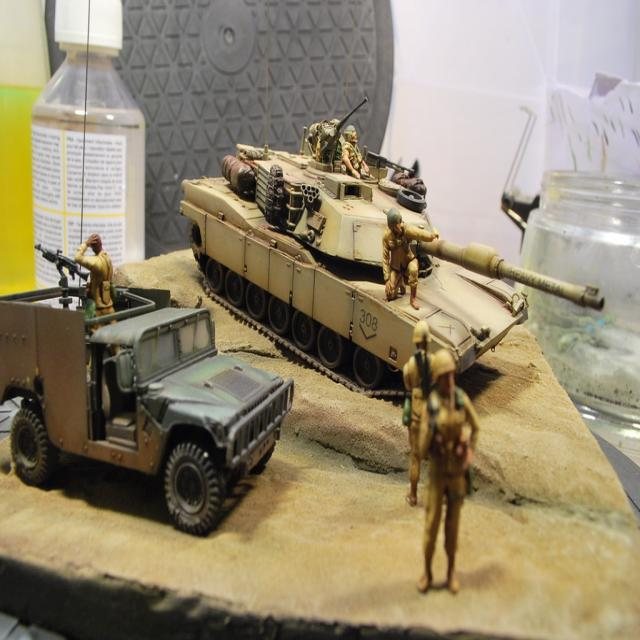tank: (178, 0, 606, 397)
